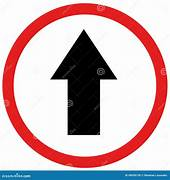forward: (1, 3, 167, 168)
